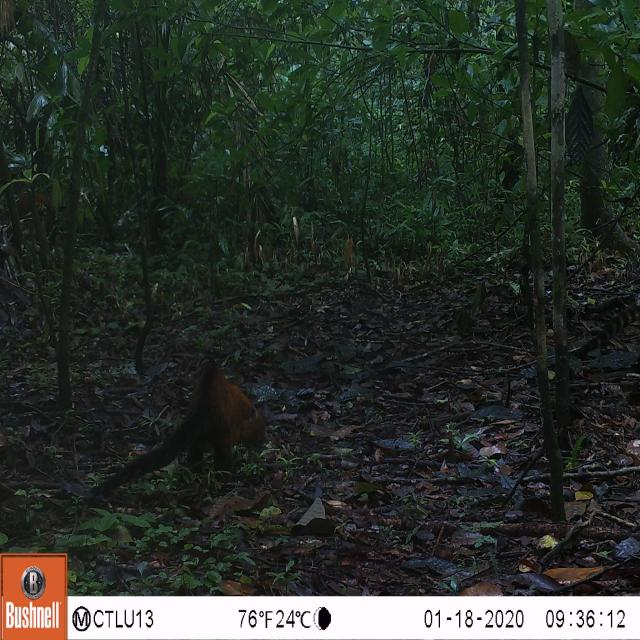South American Coati: (76, 340, 282, 506), (559, 295, 640, 363)
